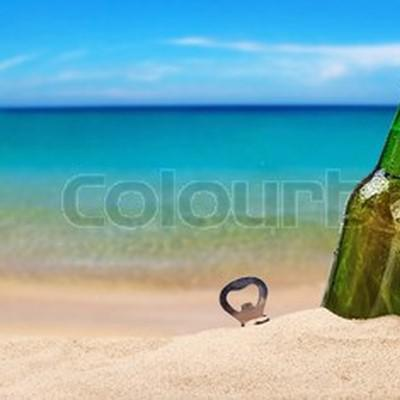beer: (320, 89, 400, 323)
